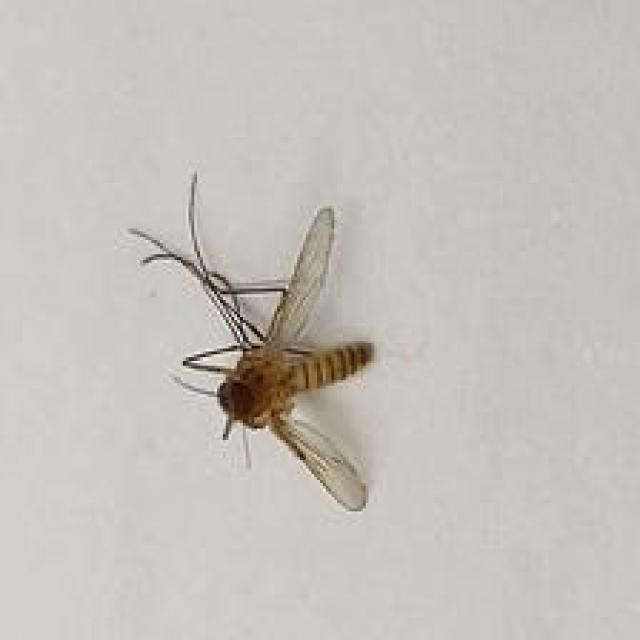Culex: (127, 170, 376, 513)
